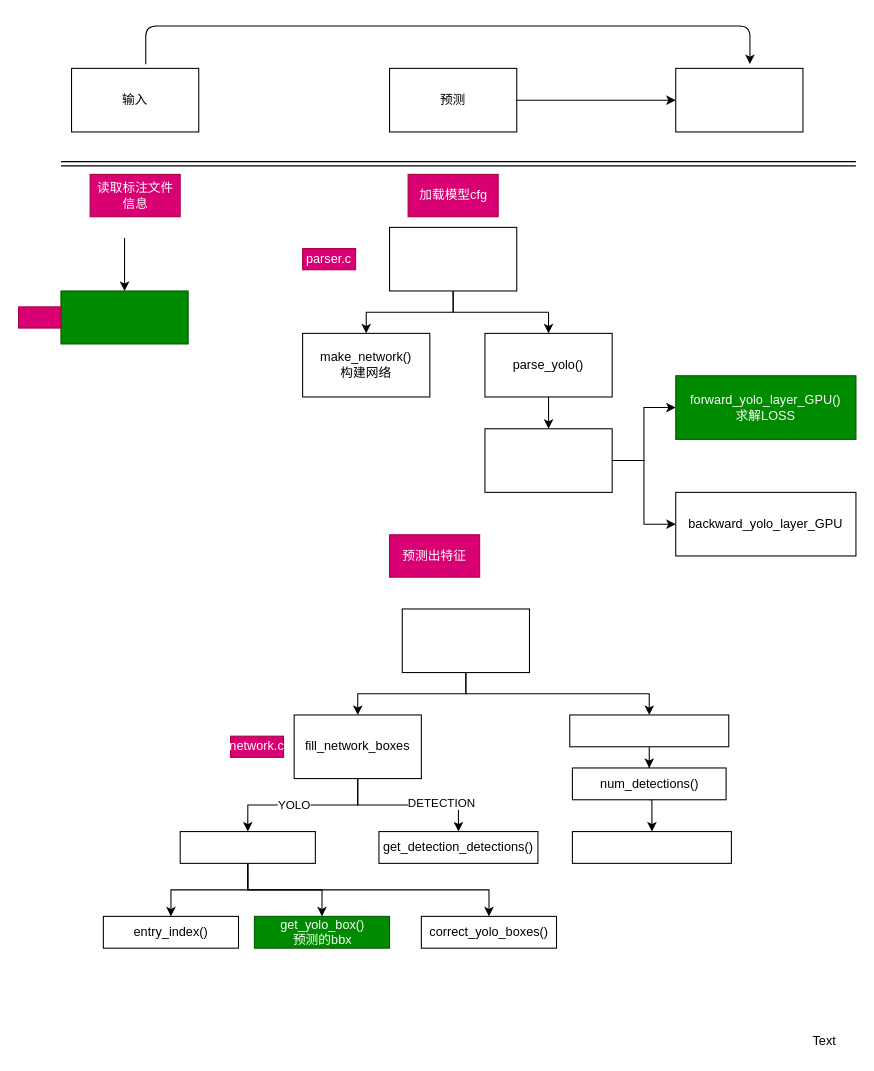
The diagram is 874 pixels wide and 1071 high, and some of its shapes have lost their labels. The shapes that lost their labels are listed below. From the top down, each one's box as (x1, y1, x2, y2) in pixels, then its label:
(675, 67, 803, 132): 求loss
(388, 226, 517, 291): parse_network_cfg()
(17, 306, 61, 328): data.c
(60, 290, 188, 344): read_boxes() 读入labels文件
(484, 428, 612, 492): make_yolo_layer
(401, 608, 529, 673): get_network_boxes()
(569, 714, 729, 747): make_network_boxes()
(179, 831, 315, 863): get_yolo_detections
(571, 831, 731, 863): yolo_num_detections()
